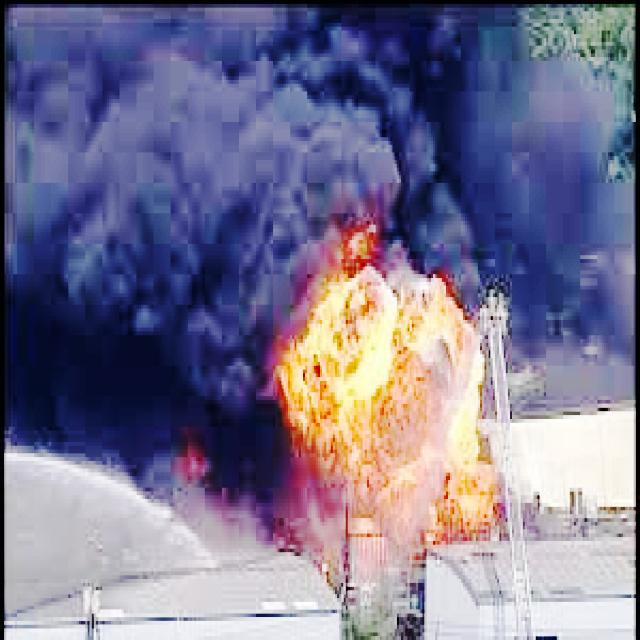api: (283, 230, 507, 538)
